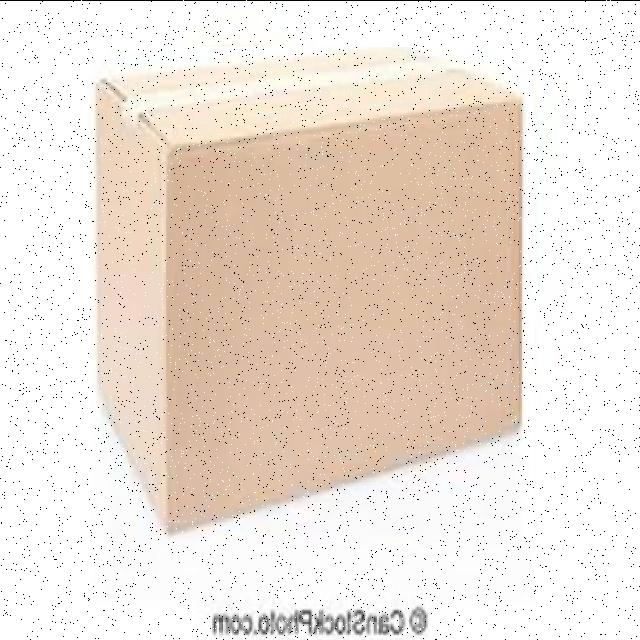normal: (91, 46, 534, 539)
